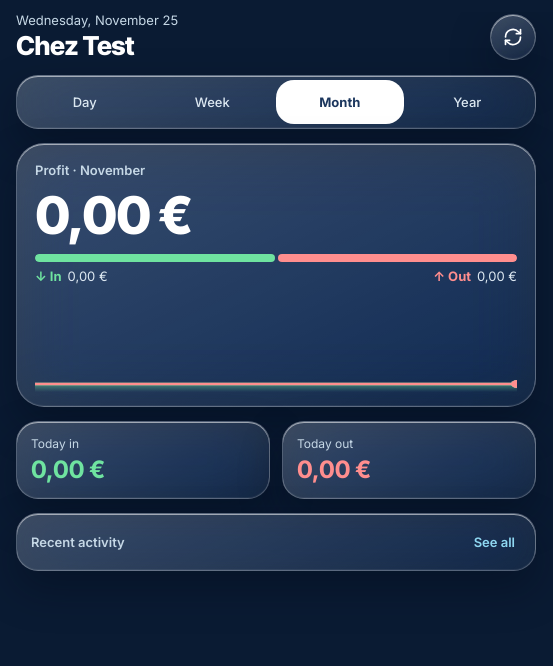
it: the sync button runs a sync; signed out it offers "Sign in to sync"
The image size is (553, 666).
Click the button named "Sync now" at [513, 36], box [490, 14, 536, 60]
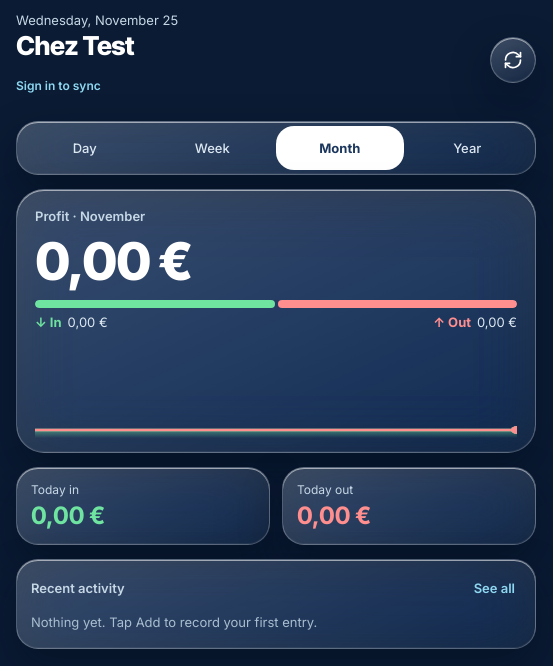
Result: the button "Sign in to sync" is shown at [16, 63, 178, 107]
